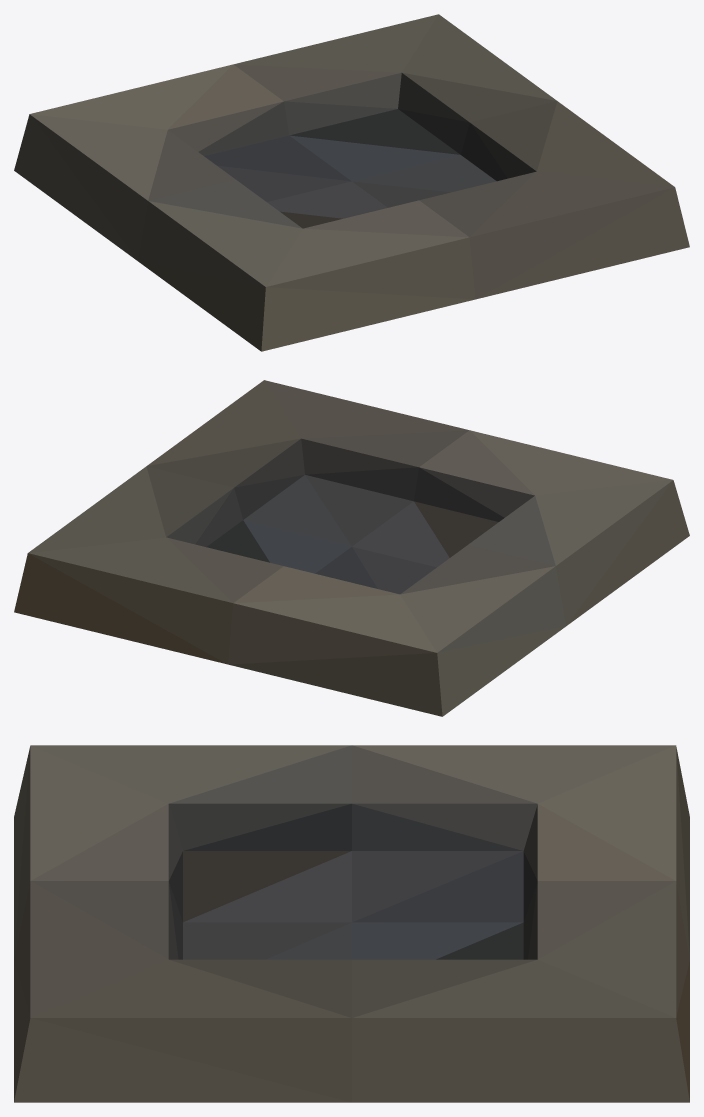
File: floor_bordered_2m_1.fbx
3 views of the same model, one above another, from view 1: azimuth 30°, elevation 25°; view 2: azimuth 150°, elevation 25°; view 3: azimuth 270°, elevation 25° (orthographic). The views are drawn at different scales.
Parts seen in each view (by area): view 1: floor_bordered_2m_1; view 2: floor_bordered_2m_1; view 3: floor_bordered_2m_1.
Part boxes in pixels (bbox=[...]): floor_bordered_2m_1: bbox=[14, 14, 689, 351]; floor_bordered_2m_1: bbox=[14, 380, 689, 716]; floor_bordered_2m_1: bbox=[14, 745, 689, 1102].
Bounding box in the file's own units: 2 × 0.2573 × 2.
